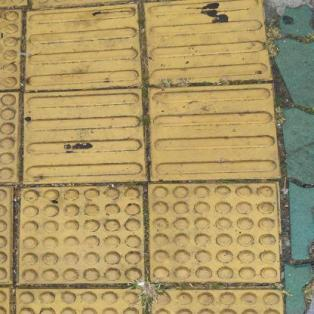Podoctatil: (0, 0, 290, 313)
